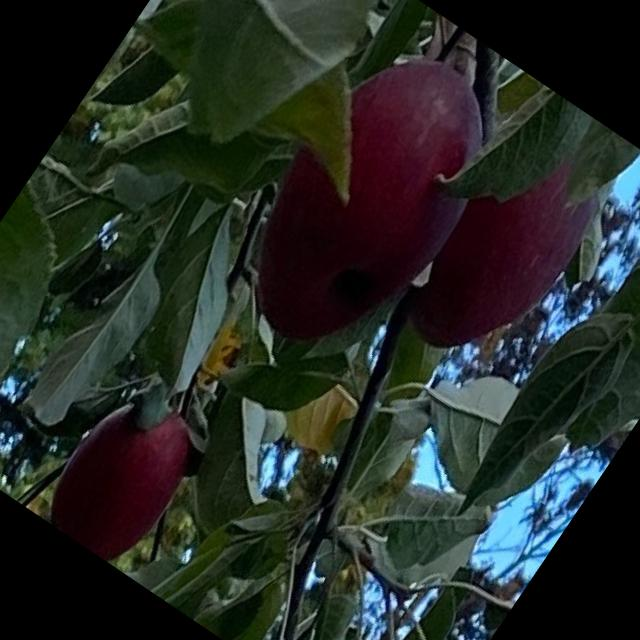Apples: (218, 28, 528, 372), (395, 132, 614, 379), (35, 376, 216, 572)
